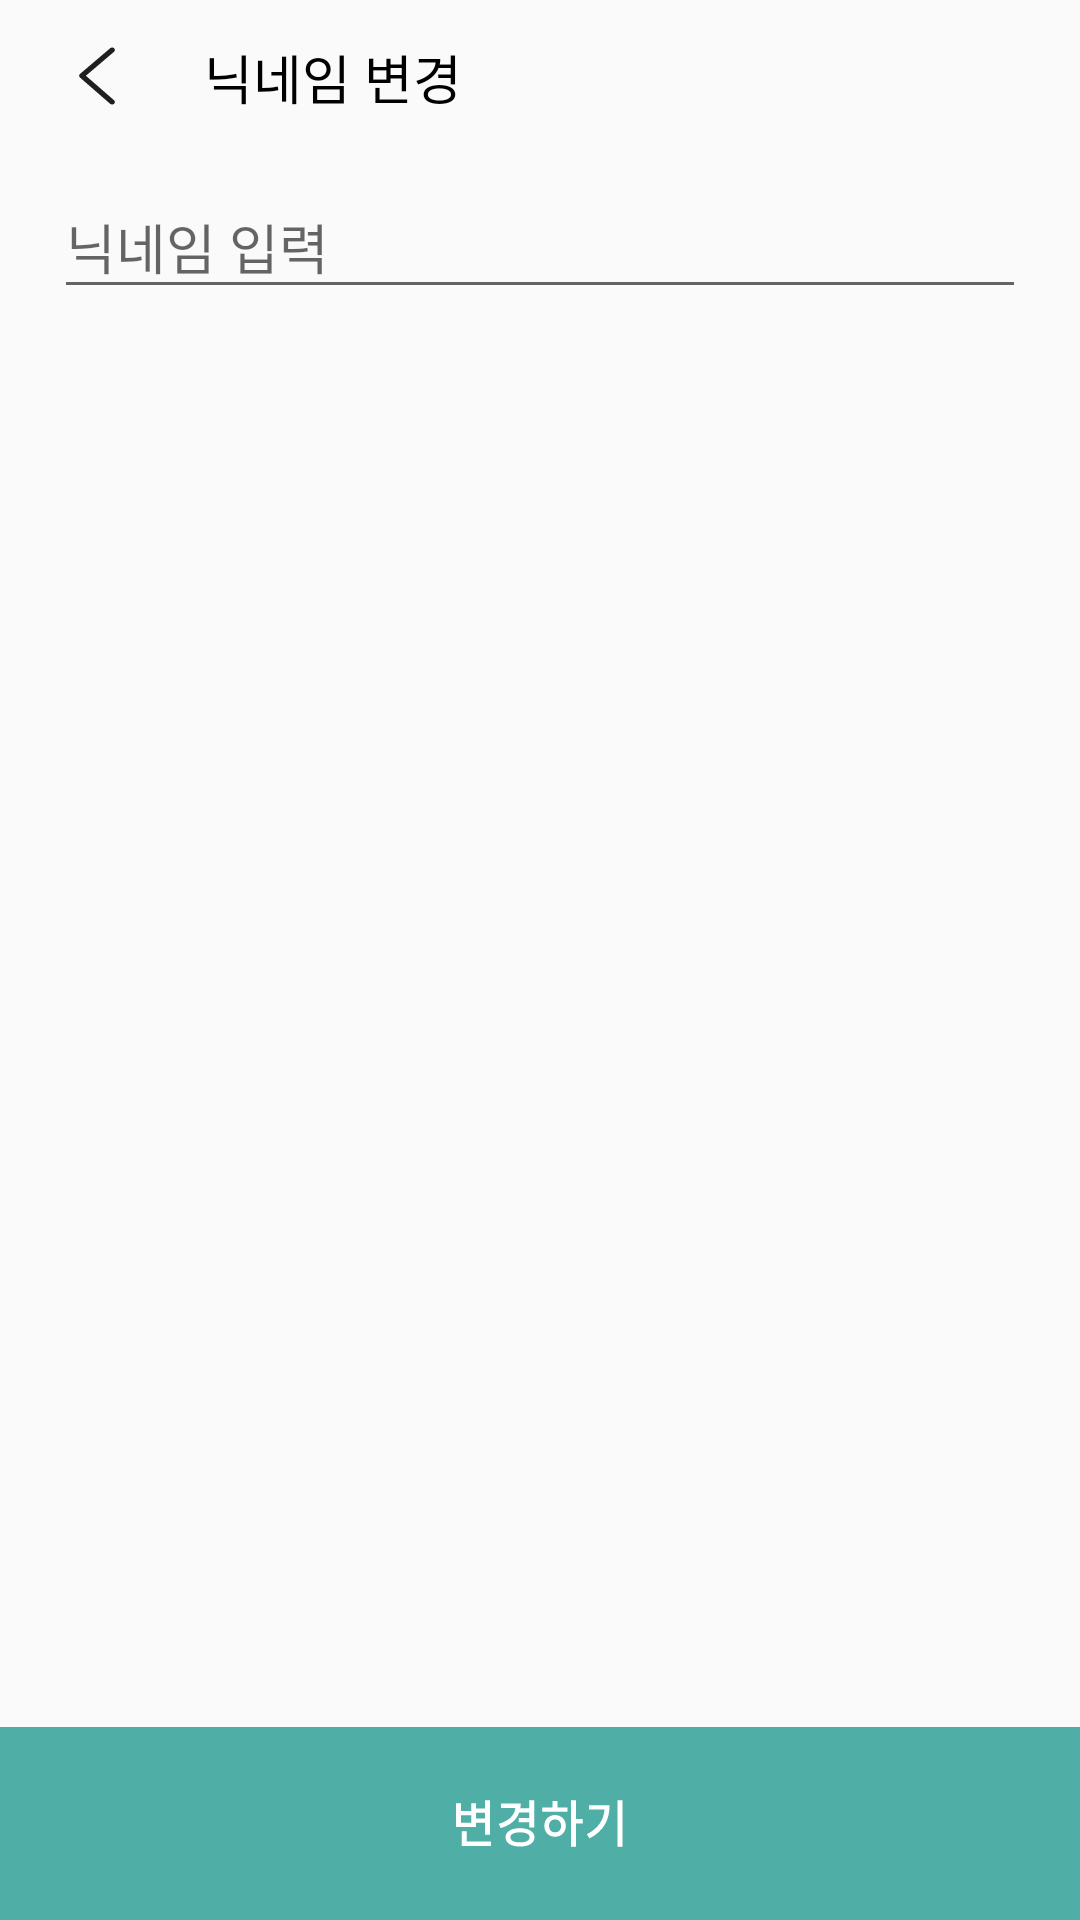

Icon click points for this 1080×1920 phone screenshot, format point (x, y):
back: point (97, 76)
